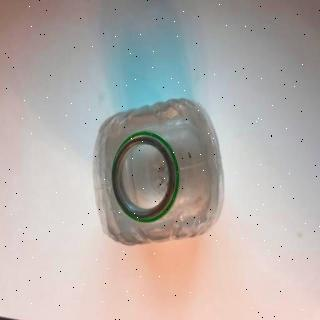Plastic-bottle: (93, 97, 225, 247)
